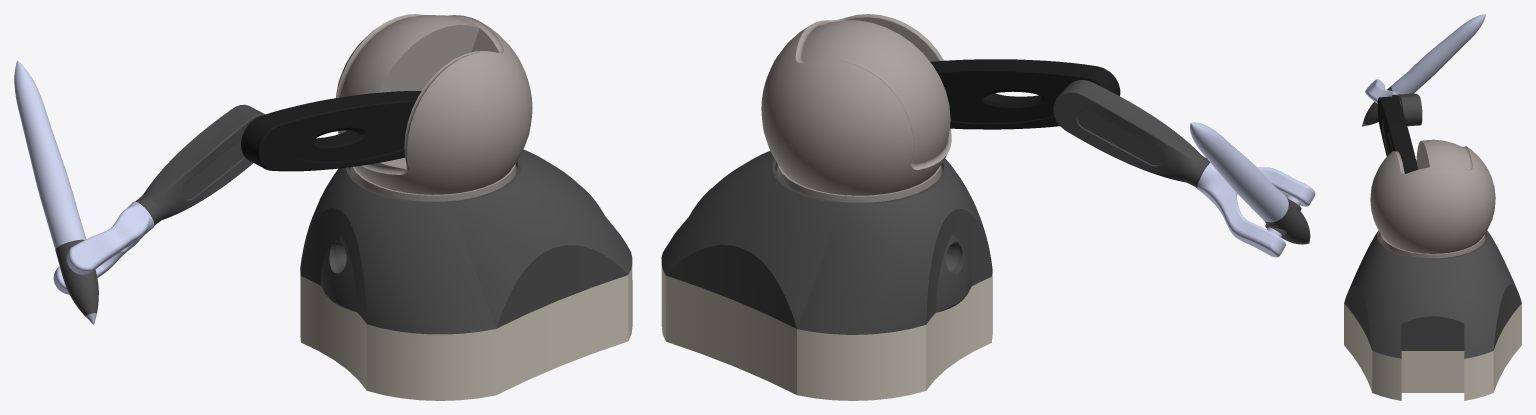
File: Omni.FBX
The picture shows the model from 3 angles, left to right: view 1: azimuth 30°, elevation 25°; view 2: azimuth 150°, elevation 25°; view 3: azimuth 270°, elevation 25°; orthographic projection. The views are drawn at different scales.
Parts seen in each view (by area): view 1: Cortar-Extruir15, Redondeo3, Redondeo4, Redondeo1, Cortar-Extruir1, Redondeo5, Cortar-Extruir4; view 2: Cortar-Extruir15, Redondeo3, Redondeo4, Redondeo1, Cortar-Extruir1, Redondeo5, Cortar-Extruir4; view 3: Cortar-Extruir15, Redondeo3, Cortar-Extruir1, Redondeo4, Redondeo1, Redondeo5, Cortar-Extruir4.
Part boxes in pixels (x1,y1,x2,y2): Cortar-Extruir15: (300, 149, 632, 400); Redondeo3: (336, 14, 532, 201); Redondeo4: (241, 91, 421, 171); Redondeo1: (135, 104, 264, 225); Cortar-Extruir1: (14, 60, 86, 249); Redondeo5: (53, 201, 154, 294); Cortar-Extruir4: (55, 239, 98, 316); Cortar-Extruir15: (661, 151, 992, 400); Redondeo3: (761, 14, 951, 202); Redondeo4: (930, 59, 1120, 129); Redondeo1: (1053, 80, 1209, 187); Cortar-Extruir1: (1190, 122, 1288, 222); Redondeo5: (1197, 162, 1315, 257); Cortar-Extruir4: (1264, 198, 1310, 244); Cortar-Extruir15: (1344, 230, 1521, 400); Redondeo3: (1370, 139, 1495, 258); Cortar-Extruir1: (1391, 14, 1485, 94); Redondeo4: (1377, 96, 1418, 173); Redondeo1: (1392, 93, 1422, 126); Redondeo5: (1365, 79, 1397, 103); Cortar-Extruir4: (1363, 86, 1392, 125).
Size of the model in its own units: 409 by 170 by 230.
